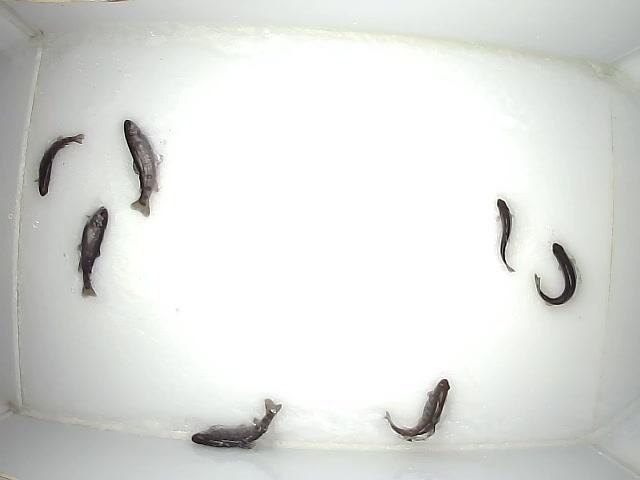fish: (190, 397, 283, 449), (119, 115, 164, 218), (383, 377, 452, 442), (32, 131, 88, 199), (76, 203, 110, 300), (533, 239, 579, 306), (494, 196, 516, 273)
